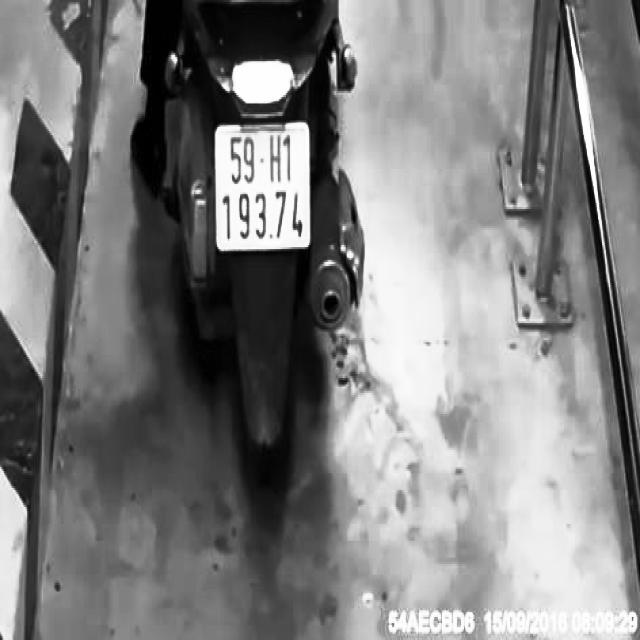license_plate: (209, 112, 320, 260)
